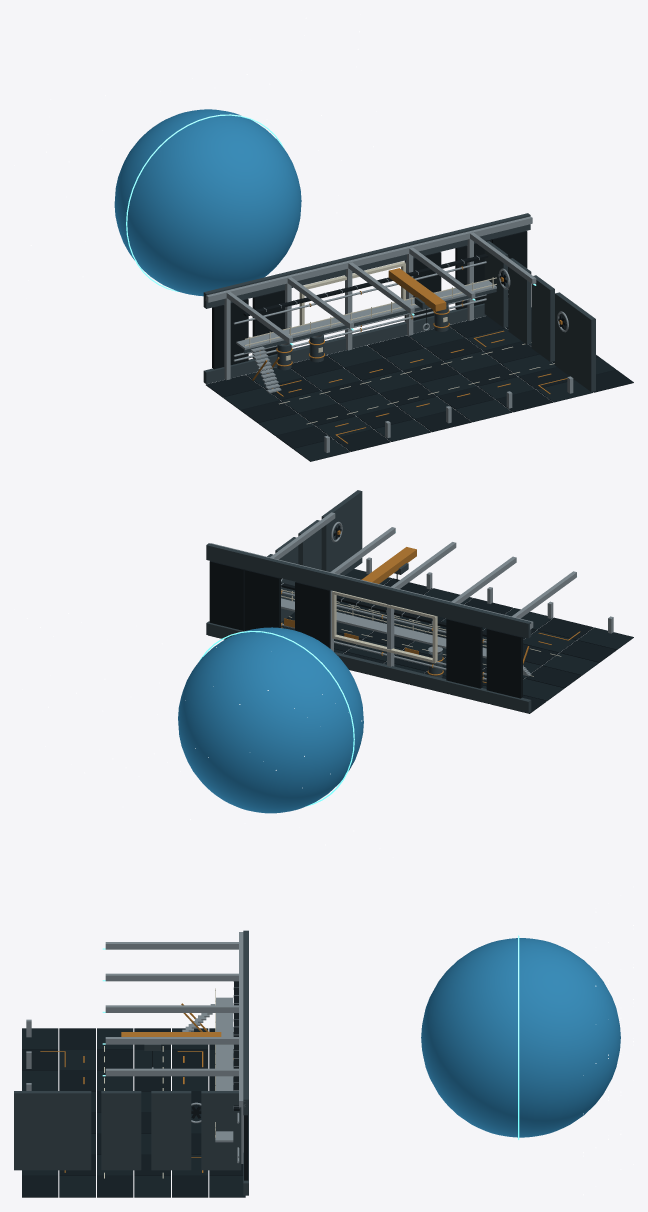
The model's file is hangar-orbital.glb.
The picture shows the model from 3 angles, top to bottom: view 1: azimuth 30°, elevation 25°; view 2: azimuth 150°, elevation 25°; view 3: azimuth 270°, elevation 25°; orthographic projection. The views are drawn at different scales.
Parts seen in each view (by area): view 1: Static_245d78, Static_35444b, Static_101b21, Static_152229, Static_849198, Static_11191e, Static_c9c8b7, Static_b4772c, Static_83d9e8; view 2: Static_245d78, Static_35444b, Static_11191e, Static_849198, Static_152229, Static_101b21, Static_c9c8b7, Static_b4772c, Static_83d9e8; view 3: Static_245d78, Static_35444b, Static_152229, Static_101b21, Static_849198, Static_11191e, Static_b4772c, Static_83d9e8.
Boxes of the visible parts, bbox=[...] form: Static_245d78: bbox=[114, 109, 301, 296]; Static_35444b: bbox=[203, 213, 595, 391]; Static_101b21: bbox=[206, 316, 633, 451]; Static_152229: bbox=[223, 307, 616, 461]; Static_849198: bbox=[205, 216, 573, 452]; Static_11191e: bbox=[212, 231, 565, 369]; Static_c9c8b7: bbox=[244, 261, 554, 424]; Static_b4772c: bbox=[252, 266, 567, 443]; Static_83d9e8: bbox=[126, 114, 536, 344]; Static_245d78: bbox=[178, 627, 363, 813]; Static_35444b: bbox=[206, 490, 531, 713]; Static_11191e: bbox=[209, 525, 522, 698]; Static_849198: bbox=[210, 512, 613, 680]; Static_152229: bbox=[208, 569, 633, 703]; Static_101b21: bbox=[286, 578, 616, 713]; Static_c9c8b7: bbox=[281, 589, 561, 676]; Static_b4772c: bbox=[281, 530, 580, 682]; Static_83d9e8: bbox=[199, 532, 577, 806]; Static_245d78: bbox=[421, 938, 620, 1137]; Static_35444b: bbox=[14, 930, 248, 1195]; Static_152229: bbox=[22, 1028, 245, 1197]; Static_101b21: bbox=[22, 1028, 243, 1197]; Static_849198: bbox=[26, 932, 245, 1163]; Static_11191e: bbox=[152, 981, 248, 1180]; Static_b4772c: bbox=[40, 1003, 233, 1172]; Static_83d9e8: bbox=[102, 935, 519, 1139].
Bounding box in the file's own units: 35.69 × 18.57 × 49.65.
